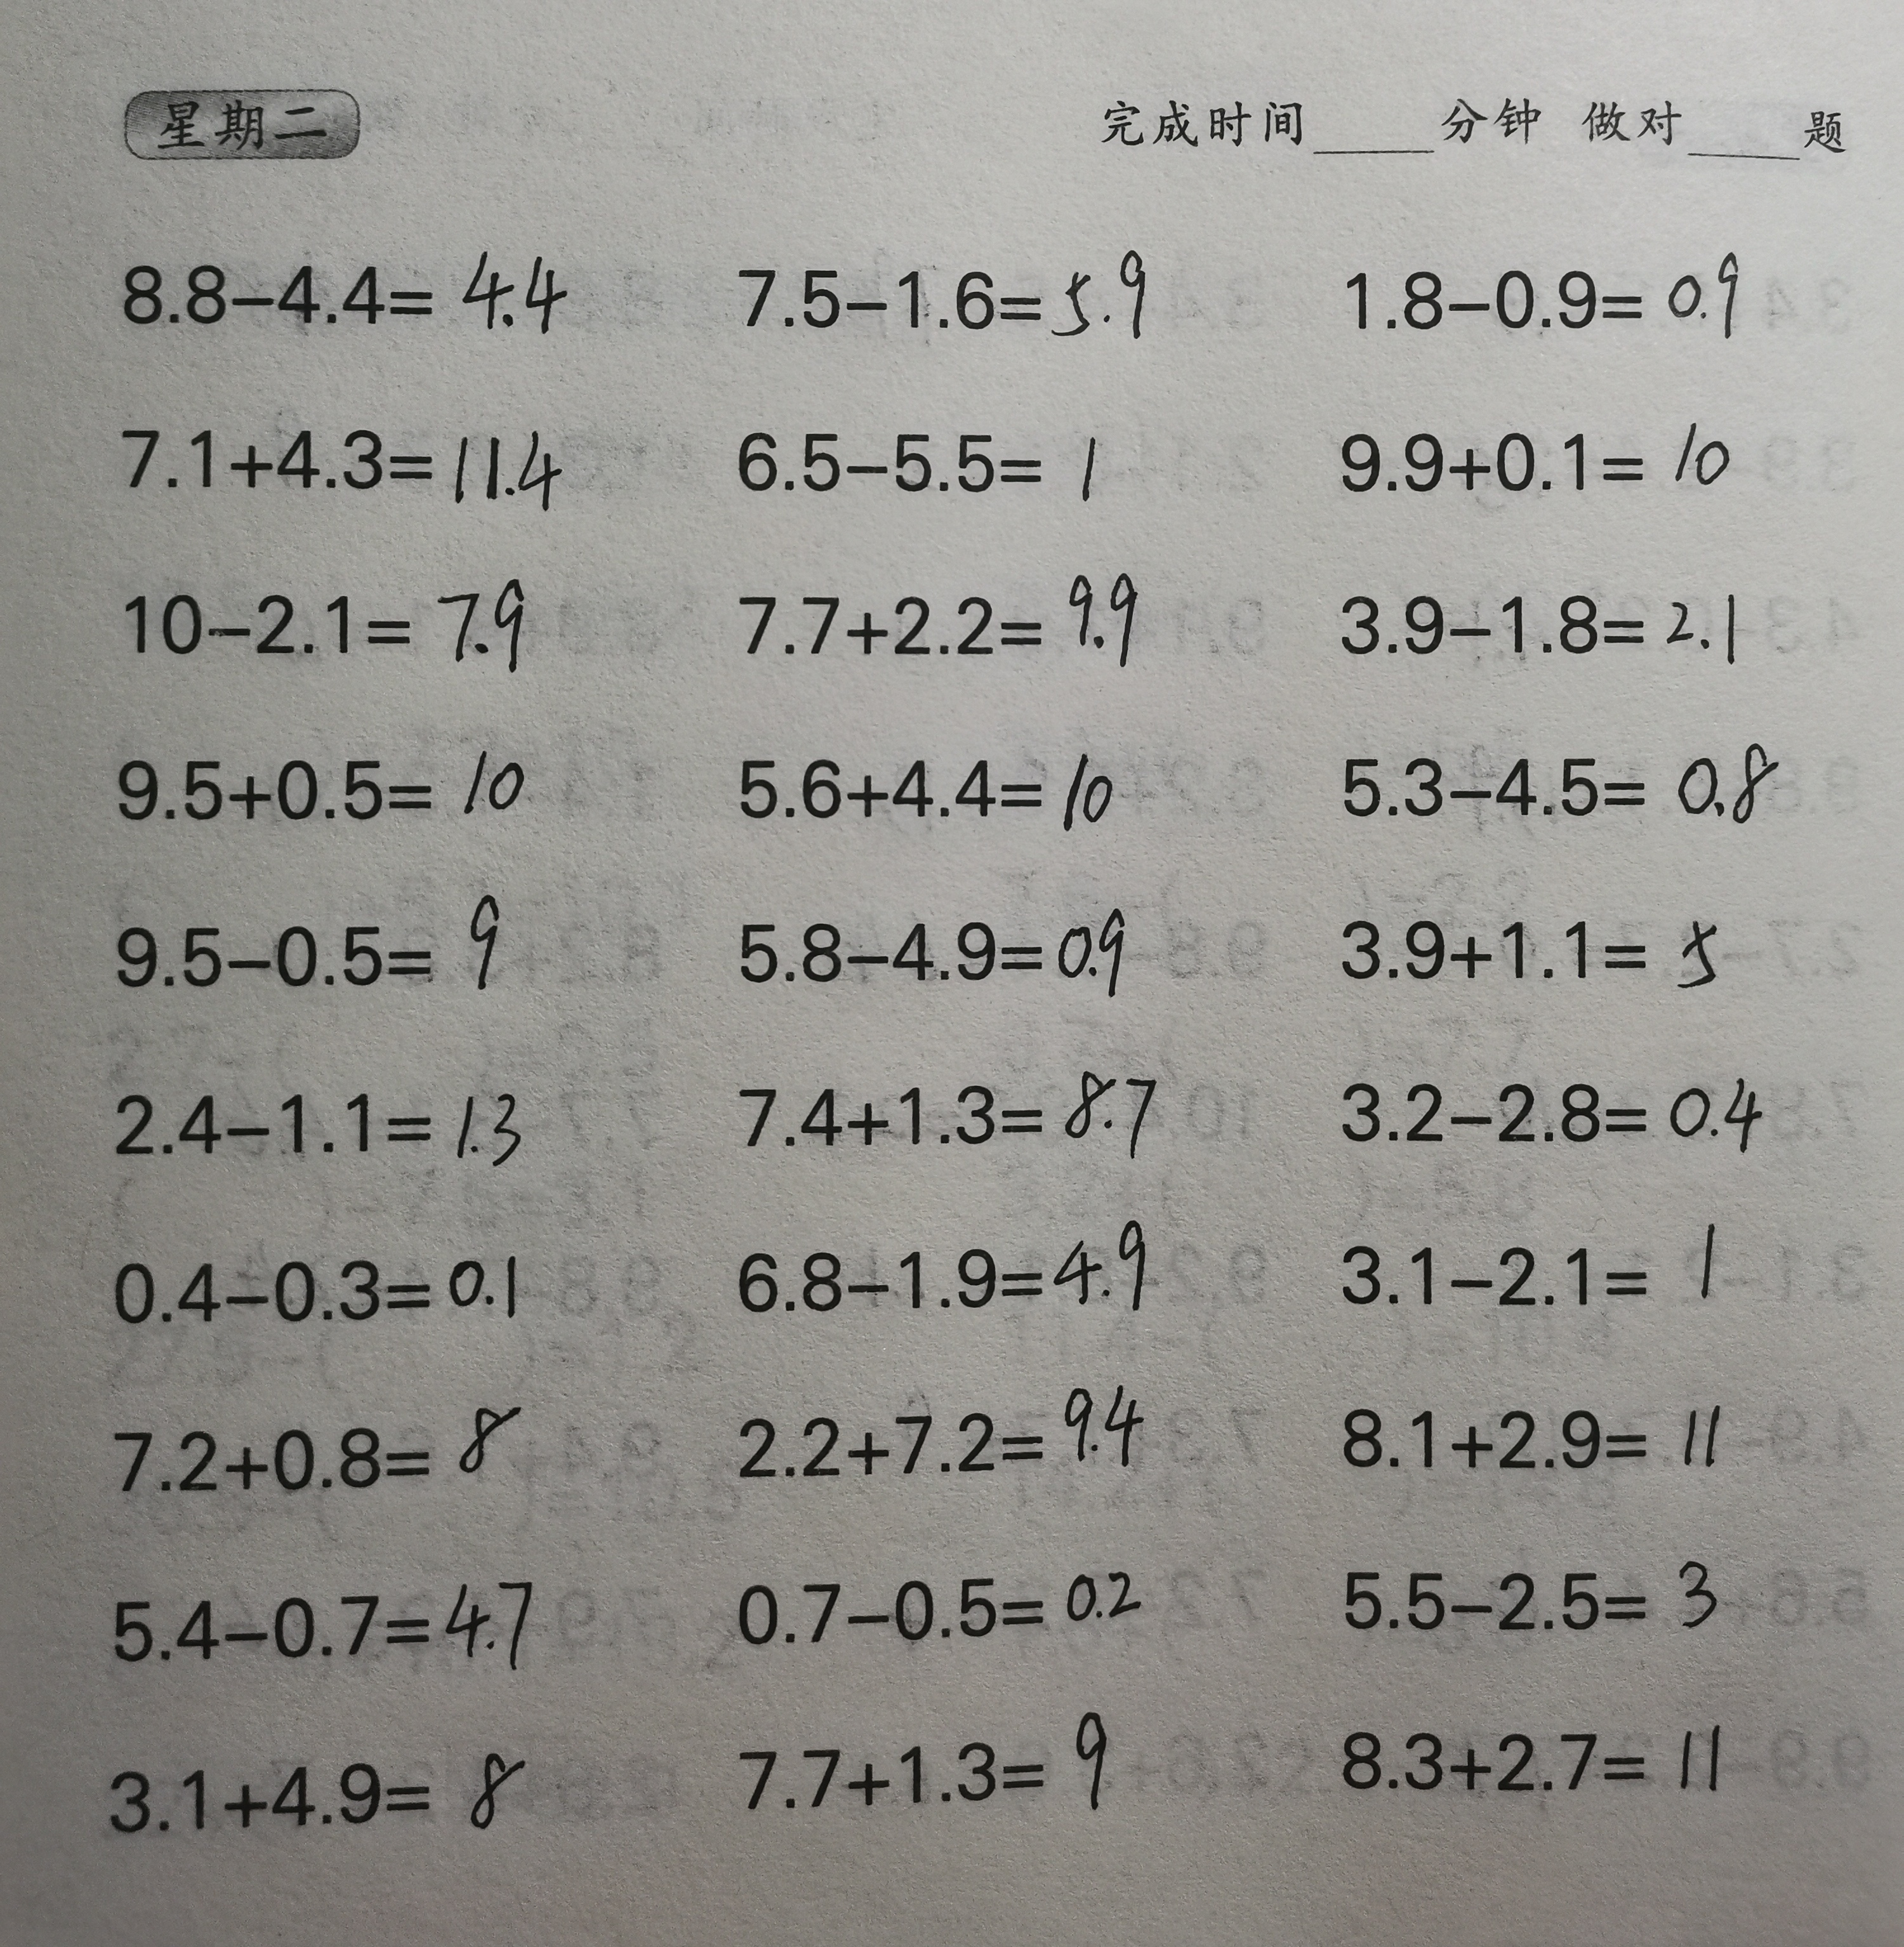equation: (101, 551, 560, 692), (718, 1689, 1154, 1837), (727, 542, 1163, 689), (106, 865, 528, 1013), (98, 1733, 537, 1870), (1334, 211, 1766, 350), (722, 1044, 1182, 1175), (731, 1358, 1163, 1496), (722, 221, 1166, 354), (112, 228, 581, 354), (1323, 713, 1789, 838), (96, 1564, 554, 1691), (106, 720, 563, 847), (96, 1060, 544, 1189), (105, 390, 570, 514), (1323, 554, 1780, 675), (1323, 1523, 1766, 1645), (717, 1217, 1179, 1333), (1318, 1698, 1747, 1821), (703, 1544, 1163, 1659), (1318, 392, 1770, 509), (720, 882, 1132, 1009), (1318, 1051, 1778, 1163), (96, 1225, 532, 1340), (1322, 1203, 1744, 1321), (91, 1393, 539, 1504), (1315, 1367, 1730, 1487), (717, 392, 1135, 511), (720, 727, 1135, 845), (1318, 882, 1738, 999)
